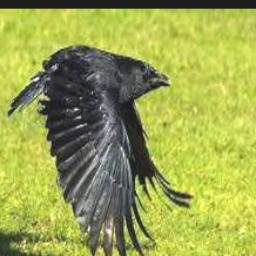Crow: (7, 45, 194, 256)
